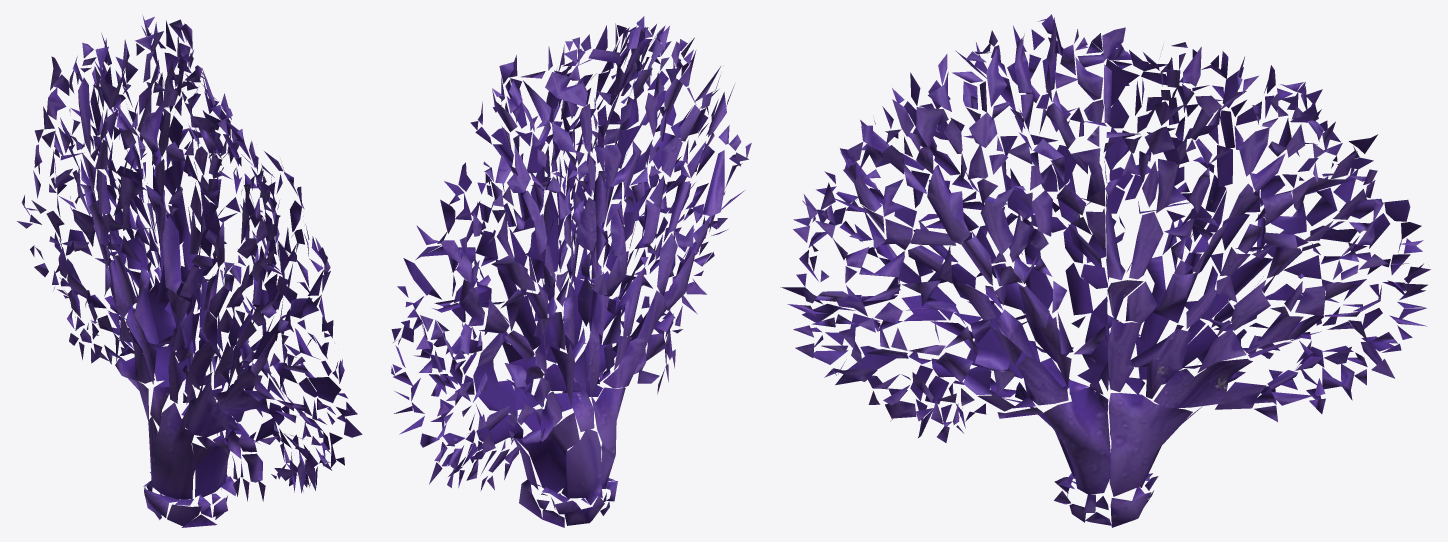
The model's file is coral_fan.glb.
3 views of the same model, side by side, from view 1: azimuth 30°, elevation 25°; view 2: azimuth 150°, elevation 25°; view 3: azimuth 270°, elevation 25° (orthographic). The views are drawn at different scales.
Visible parts, largest first — view 1: tripo_node_ac7d1dda-9df6-43ba-8fe6-1daa17c1c0f8; view 2: tripo_node_ac7d1dda-9df6-43ba-8fe6-1daa17c1c0f8; view 3: tripo_node_ac7d1dda-9df6-43ba-8fe6-1daa17c1c0f8.
Part boxes in pixels (x1,y1,x2,y2): tripo_node_ac7d1dda-9df6-43ba-8fe6-1daa17c1c0f8: [17, 15, 362, 527]; tripo_node_ac7d1dda-9df6-43ba-8fe6-1daa17c1c0f8: [391, 16, 751, 527]; tripo_node_ac7d1dda-9df6-43ba-8fe6-1daa17c1c0f8: [780, 14, 1430, 527].
Size of the model in its own units: 0.1575 by 0.8337 by 0.9988.
1 material, 1 textured.
